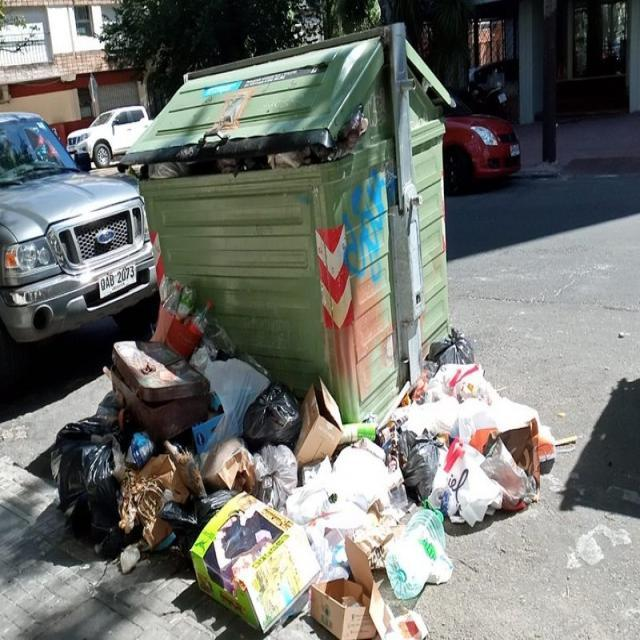garbage: (36, 338, 440, 638), (393, 330, 566, 528), (128, 110, 378, 186), (148, 276, 227, 338)
